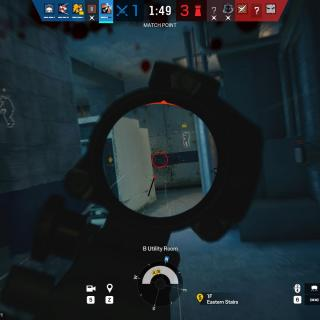Friend_label: (173, 123, 196, 133), (0, 87, 11, 97)
